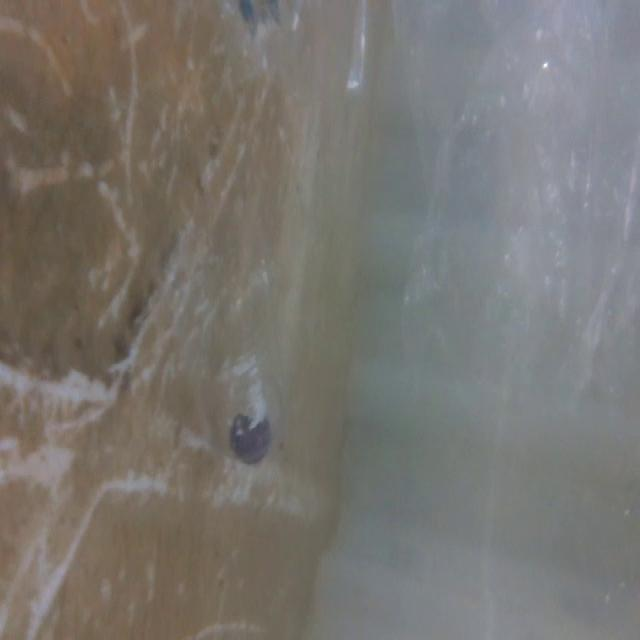plastic bottle: (182, 175, 298, 467)
